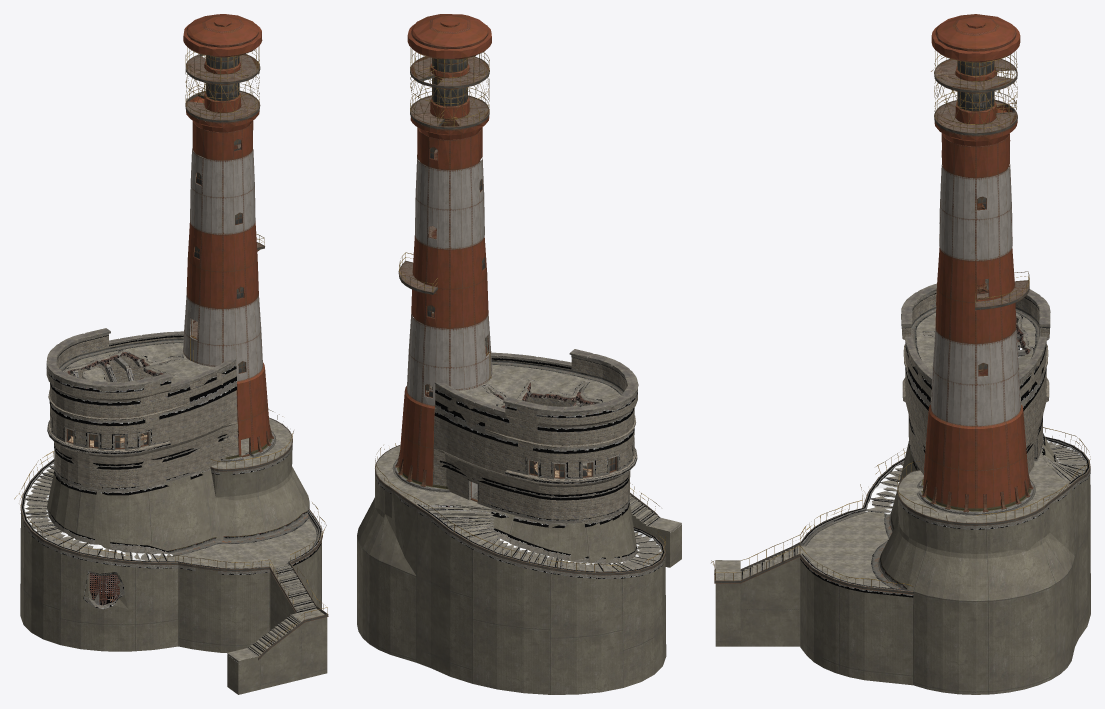
File: lighthouse-close.glb
3 renders of one model, left to right at view 1: azimuth 30°, elevation 25°; view 2: azimuth 150°, elevation 25°; view 3: azimuth 270°, elevation 25°, orthographic. The views are drawn at different scales.
Visible parts, largest first — view 1: a_lighthouse_ext_LOD0, a_lighthouse_int_LOD0; view 2: a_lighthouse_ext_LOD0, a_lighthouse_int_LOD0; view 3: a_lighthouse_ext_LOD0, a_lighthouse_int_LOD0.
Part boxes in pixels (<box>): a_lighthouse_ext_LOD0: <box>14,46,328,694</box>; a_lighthouse_int_LOD0: <box>20,14,324,662</box>; a_lighthouse_ext_LOD0: <box>357,47,681,694</box>; a_lighthouse_int_LOD0: <box>375,14,681,578</box>; a_lighthouse_ext_LOD0: <box>711,50,1090,694</box>; a_lighthouse_int_LOD0: <box>715,14,1090,597</box>.
Bounding box in the file's own units: 34.39 × 69.55 × 38.04.
19 materials, 18 textured.
